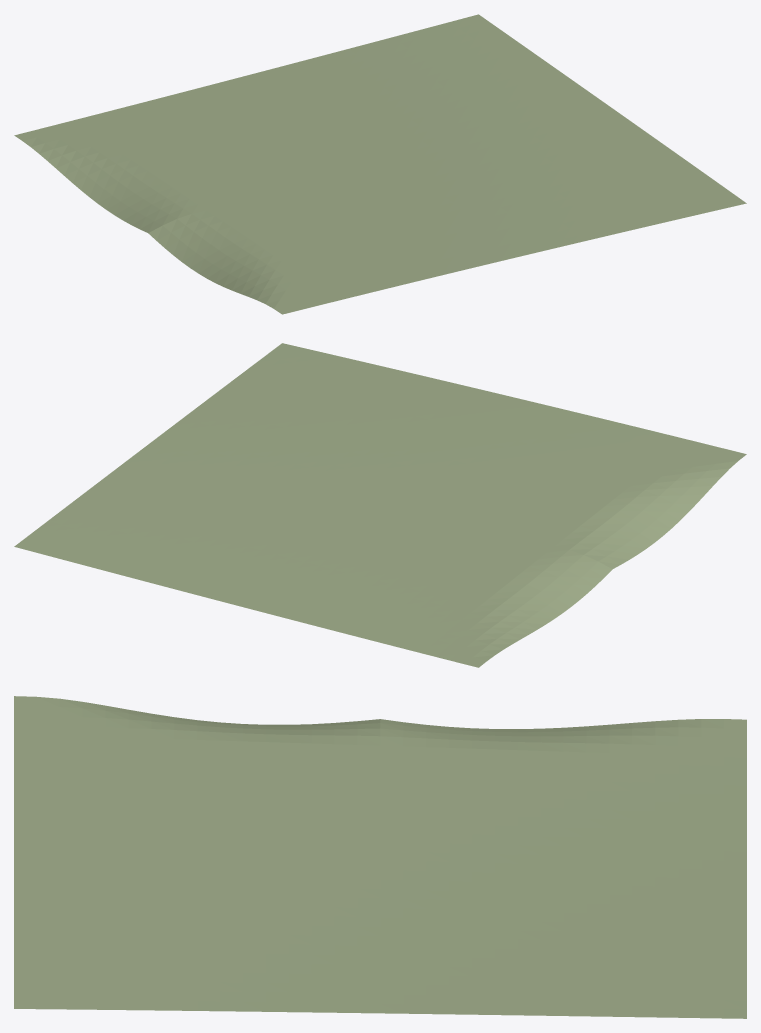
File: gardens-7-7.glb
The picture shows the model from 3 angles, top to bottom: view 1: azimuth 30°, elevation 25°; view 2: azimuth 150°, elevation 25°; view 3: azimuth 270°, elevation 25°; orthographic projection. The views are drawn at different scales.
Visible parts, largest first — view 1: gardens-7-7; view 2: gardens-7-7; view 3: gardens-7-7.
Boxes of the visible parts, bbox=[...] form: gardens-7-7: bbox=[14, 14, 746, 314]; gardens-7-7: bbox=[14, 343, 746, 667]; gardens-7-7: bbox=[14, 696, 746, 1018].
Size of the model in its own units: 256 by 12.9 by 256.
